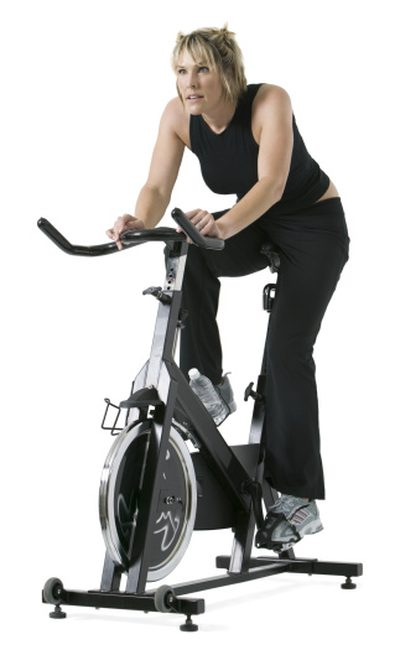gym_bike: (33, 211, 371, 623)
